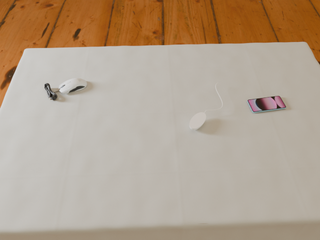mouse: (59, 78, 87, 94), (190, 112, 206, 130)
phone: (247, 96, 286, 113)
